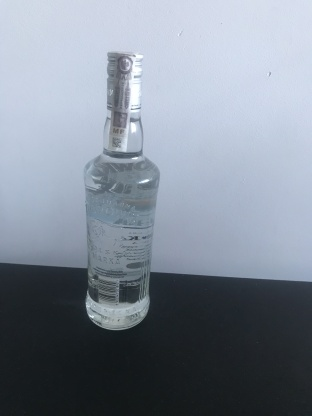nakretka: (103, 48, 145, 114)
